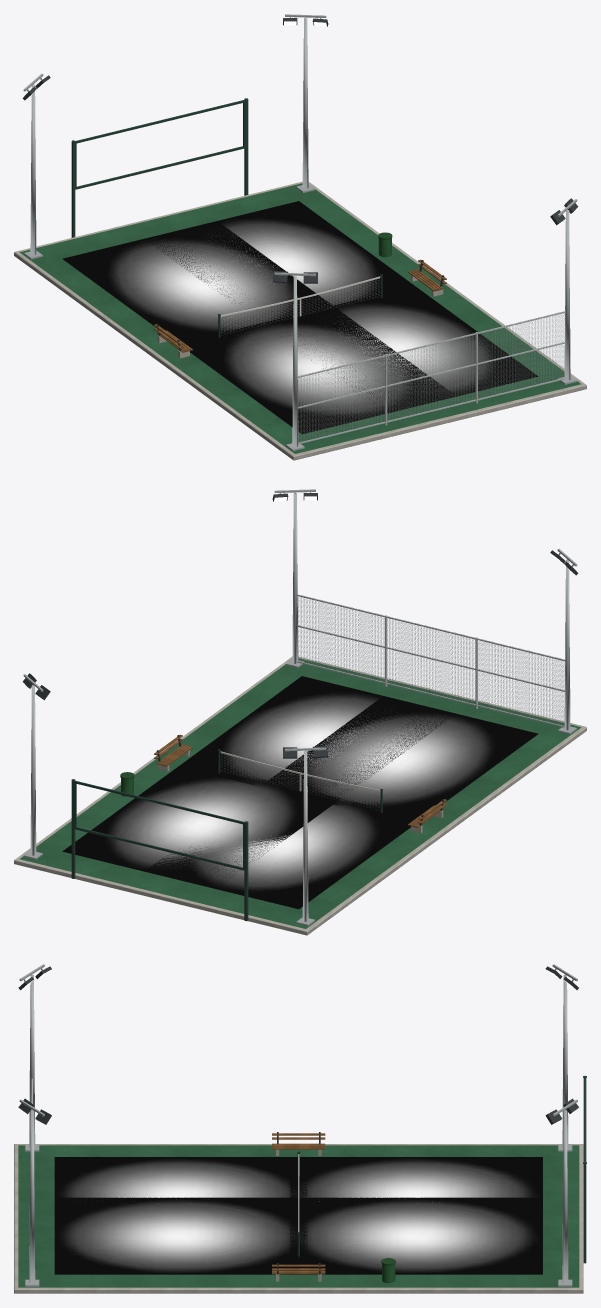
Rendered from LM_ENV_Pickleball.glb.
The picture shows the model from 3 angles, top to bottom: view 1: azimuth 30°, elevation 25°; view 2: azimuth 150°, elevation 25°; view 3: azimuth 270°, elevation 25°; orthographic projection.
Visible parts, largest first — view 1: pickleball | Night wash floodlight, pickleball | Ground acrylic, pickleball | Chain link, pickleball | Galvanised steel, pickleball | Court concrete, pickleball | Painted steel, pickleball | Bench timber; view 2: pickleball | Night wash floodlight, pickleball | Ground acrylic, pickleball | Chain link, pickleball | Galvanised steel, pickleball | Court concrete, pickleball | Painted steel, pickleball | Bench timber; view 3: pickleball | Night wash floodlight, pickleball | Ground acrylic, pickleball | Court concrete, pickleball | Galvanised steel, pickleball | Painted steel, pickleball | Bench timber.
Boxes of the visible parts, x1,y1,x2,y2 form: pickleball | Night wash floodlight: [62, 201, 538, 434]; pickleball | Ground acrylic: [20, 183, 581, 453]; pickleball | Chain link: [298, 313, 564, 442]; pickleball | Galvanised steel: [23, 14, 577, 450]; pickleball | Court concrete: [14, 181, 586, 460]; pickleball | Painted steel: [22, 18, 578, 351]; pickleball | Bench timber: [154, 259, 446, 352]; pickleball | Night wash floodlight: [62, 676, 538, 909]; pickleball | Ground acrylic: [19, 658, 580, 928]; pickleball | Chain link: [297, 597, 564, 725]; pickleball | Galvanised steel: [23, 489, 577, 925]; pickleball | Court concrete: [14, 657, 586, 935]; pickleball | Painted steel: [22, 493, 578, 921]; pickleball | Bench timber: [154, 734, 446, 827]; pickleball | Night wash floodlight: [54, 1157, 542, 1274]; pickleball | Ground acrylic: [18, 1145, 579, 1287]; pickleball | Court concrete: [14, 1144, 583, 1293]; pickleball | Galvanised steel: [19, 964, 577, 1286]; pickleball | Painted steel: [18, 966, 586, 1283]; pickleball | Bench timber: [272, 1133, 325, 1274].
Bounding box in the file's own units: 12.81 × 7.13 × 20.42.
9 materials, 6 textured.
